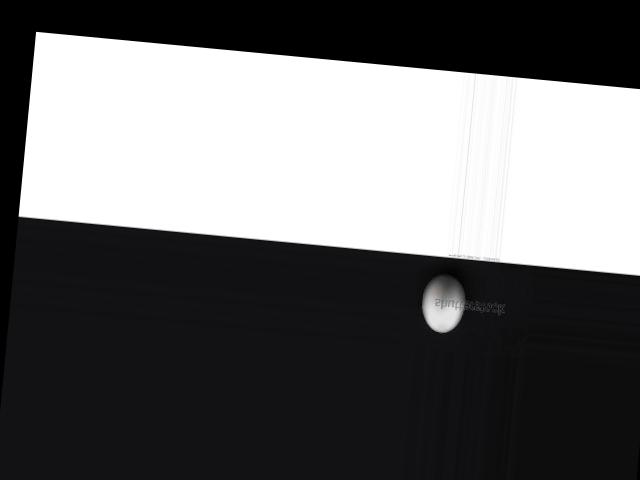egg: (419, 272, 467, 335)
